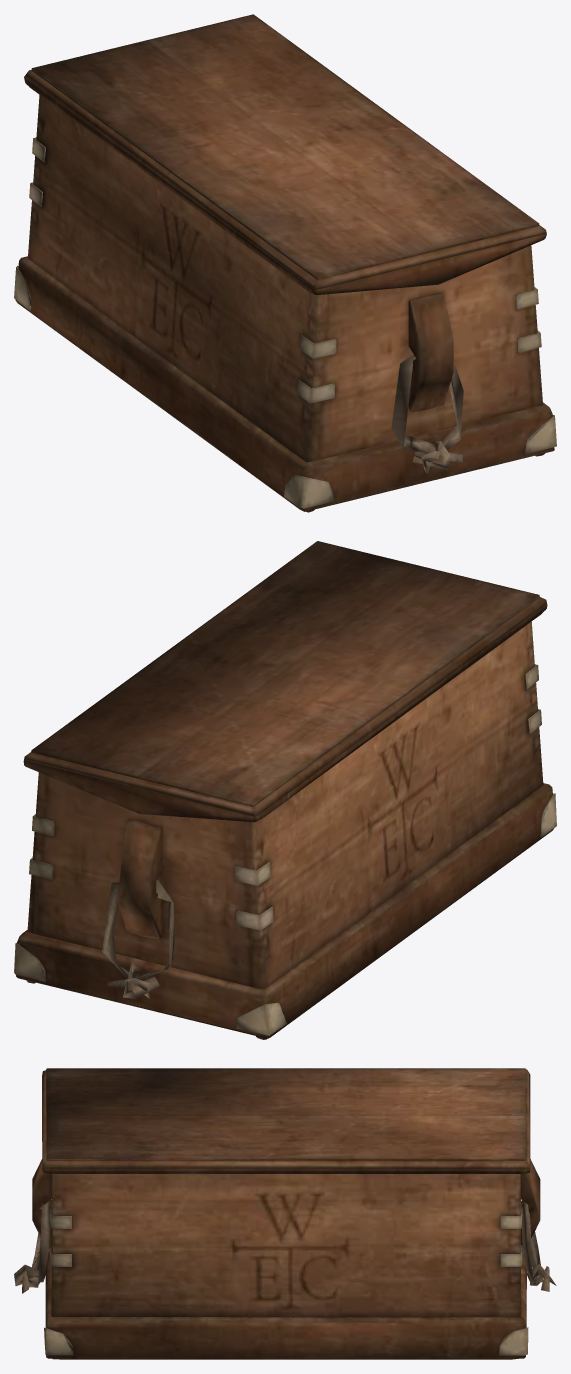
File: wooden_crate_02.glb
3 renders of one model, top to bottom at view 1: azimuth 30°, elevation 25°; view 2: azimuth 150°, elevation 25°; view 3: azimuth 270°, elevation 25°, orthographic. The views are drawn at different scales.
Visible parts, largest first — view 1: wooden_crate_02_crate; view 2: wooden_crate_02_crate; view 3: wooden_crate_02_crate.
Part boxes in pixels (box(x1,y1,x2,y2)): wooden_crate_02_crate: box(14, 14, 556, 512); wooden_crate_02_crate: box(14, 541, 556, 1039); wooden_crate_02_crate: box(14, 1068, 556, 1359).
Bounding box in the file's own units: 0.5291 × 0.4638 × 1.16.
Materials: 1 (1 with a texture image).
